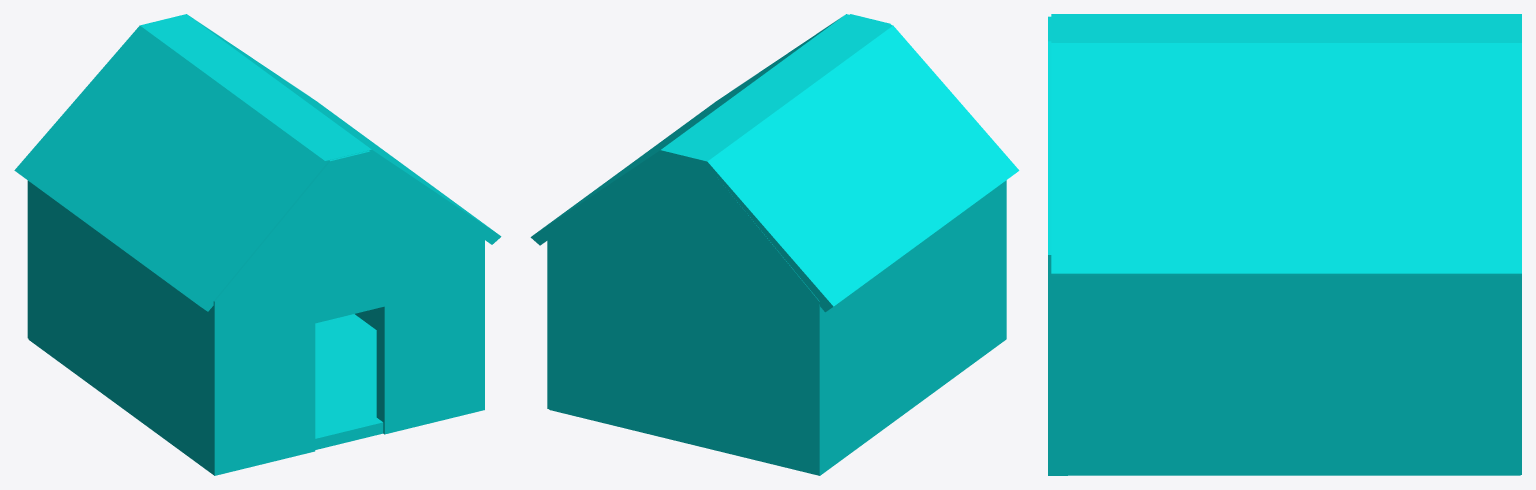
The model's file is SM_Prop_Gingerbread_House_01_Collision.fbx.
3 views of the same model, side by side, from view 1: azimuth 30°, elevation 25°; view 2: azimuth 150°, elevation 25°; view 3: azimuth 270°, elevation 25° (orthographic). The views are drawn at different scales.
Visible parts, largest first — view 1: SM_Prop_Gingerbread_House_01_Collision; view 2: SM_Prop_Gingerbread_House_01_Collision; view 3: SM_Prop_Gingerbread_House_01_Collision.
Boxes of the visible parts, x1,y1,x2,y2 form: SM_Prop_Gingerbread_House_01_Collision: [14, 14, 501, 475]; SM_Prop_Gingerbread_House_01_Collision: [530, 14, 1019, 475]; SM_Prop_Gingerbread_House_01_Collision: [1048, 14, 1521, 475].
Bounding box in the file's own units: 520 × 471 × 556.
